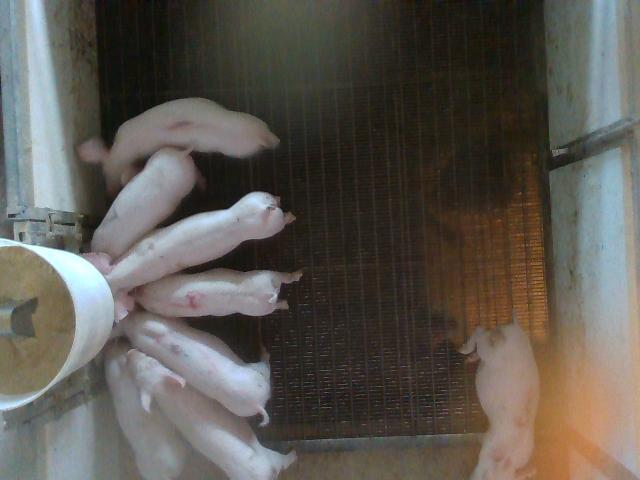pig-1: (78, 98, 280, 194)
pig-3: (459, 315, 539, 478)
pig-4: (135, 269, 302, 318)
